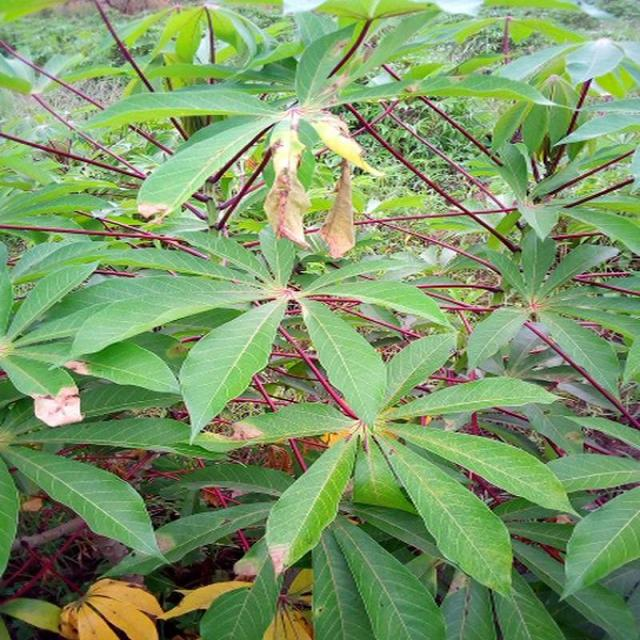cassava leaf: (0, 1, 638, 637), (178, 295, 287, 445)
